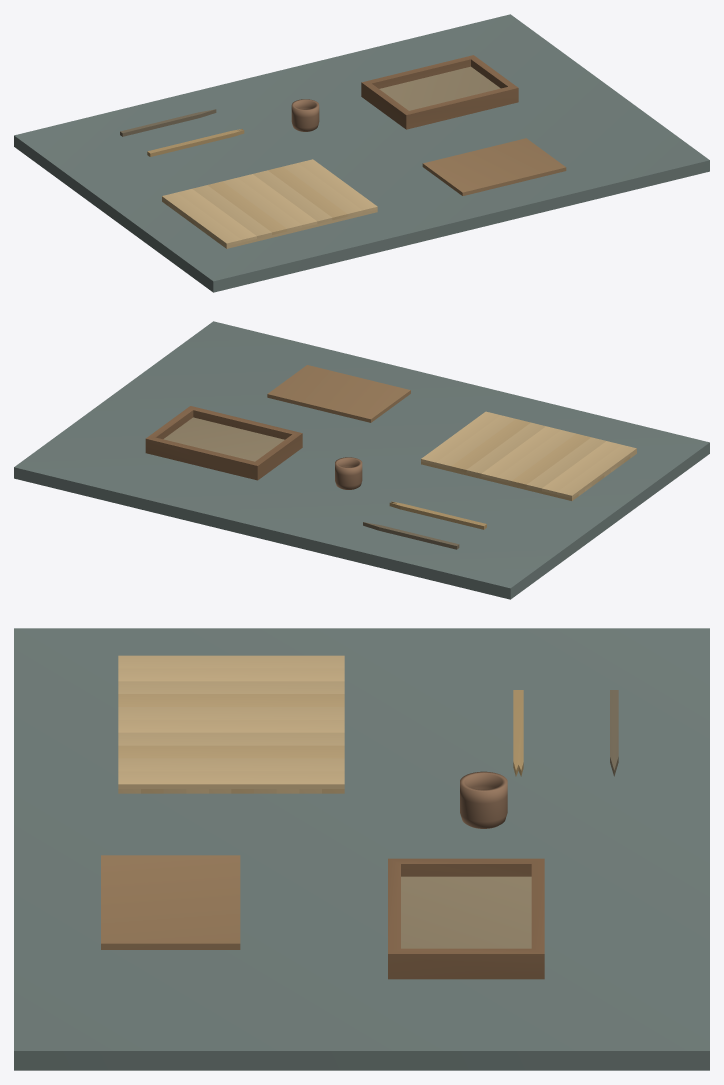
Rendered from letters-materials.glb.
3 views of the same model, one above another, from view 1: azimuth 30°, elevation 25°; view 2: azimuth 150°, elevation 25°; view 3: azimuth 270°, elevation 25° (orthographic). The views are drawn at different scales.
Visible parts, largest first — view 1: letters-materials-letters-modern-neutral-support, letters-materials-letters-original-plain-wax-frame, letters-materials-letters-original-plain-writing-wood, letters-materials-letters-original-blank-recessed-wax, letters-materials-letters-modern-papyrus-selected-tone-1, letters-materials-letters-modern-papyrus-selected-tone-2.003, letters-materials-letters-modern-papyrus-selected-tone-2, letters-materials-letters-modern-papyrus-selected-tone-2.002, letters-materials-letters-modern-papyrus-selected-tone-1.003, letters-materials-letters-modern-papyrus-selected-tone-0.001, letters-materials-letters-modern-papyrus-selected-tone-1.002, letters-materials-letters-modern-papyrus-selected-tone-3.002 (+6 smaller); view 2: letters-materials-letters-modern-neutral-support, letters-materials-letters-original-plain-wax-frame, letters-materials-letters-original-plain-writing-wood, letters-materials-letters-original-blank-recessed-wax, letters-materials-letters-modern-papyrus-selected-tone-1, letters-materials-letters-modern-papyrus-selected-tone-1.003, letters-materials-letters-modern-papyrus-selected-tone-0.001, letters-materials-letters-modern-papyrus-selected-tone-2.002, letters-materials-letters-modern-papyrus-selected-tone-3.002, letters-materials-letters-modern-papyrus-selected-tone-1.002, letters-materials-letters-modern-papyrus-selected-tone-2.003, letters-materials-letters-modern-papyrus-selected-tone-3 (+6 smaller); view 3: letters-materials-letters-modern-neutral-support, letters-materials-letters-original-plain-writing-wood, letters-materials-letters-original-plain-wax-frame, letters-materials-letters-original-blank-recessed-wax, letters-materials-letters-modern-papyrus-selected-tone-2.003, letters-materials-letters-modern-papyrus-selected-tone-1, letters-materials-letters-modern-papyrus-selected-tone-2, letters-materials-letters-modern-papyrus-selected-tone-3.002, letters-materials-letters-modern-papyrus-selected-tone-0.002, letters-materials-letters-modern-papyrus-selected-tone-1.003, letters-materials-letters-modern-papyrus-selected-tone-3, letters-materials-letters-modern-papyrus-selected-tone-0.001 (+5 smaller).
Boxes of the visible parts, x1,y1,x2,y2 form: letters-materials-letters-modern-neutral-support: (14, 14, 709, 292); letters-materials-letters-original-plain-wax-frame: (361, 55, 518, 129); letters-materials-letters-original-plain-writing-wood: (422, 138, 566, 195); letters-materials-letters-original-blank-recessed-wax: (379, 66, 500, 110); letters-materials-letters-modern-papyrus-selected-tone-1: (162, 192, 241, 245); letters-materials-letters-modern-papyrus-selected-tone-2.003: (298, 159, 377, 212); letters-materials-letters-modern-papyrus-selected-tone-2: (177, 189, 256, 242); letters-materials-letters-modern-papyrus-selected-tone-2.002: (238, 174, 317, 227); letters-materials-letters-modern-papyrus-selected-tone-1.003: (283, 163, 362, 216); letters-materials-letters-modern-papyrus-selected-tone-0.001: (207, 181, 286, 234); letters-materials-letters-modern-papyrus-selected-tone-1.002: (223, 177, 302, 231); letters-materials-letters-modern-papyrus-selected-tone-3.002: (253, 170, 332, 223); letters-materials-letters-modern-neutral-support: (14, 321, 709, 599); letters-materials-letters-original-plain-wax-frame: (145, 406, 302, 480); letters-materials-letters-original-plain-writing-wood: (267, 365, 410, 422); letters-materials-letters-original-blank-recessed-wax: (163, 417, 284, 461); letters-materials-letters-modern-papyrus-selected-tone-1: (557, 445, 636, 498); letters-materials-letters-modern-papyrus-selected-tone-1.003: (436, 415, 515, 468); letters-materials-letters-modern-papyrus-selected-tone-0.001: (511, 433, 590, 487); letters-materials-letters-modern-papyrus-selected-tone-2.002: (481, 426, 560, 479); letters-materials-letters-modern-papyrus-selected-tone-3.002: (466, 422, 545, 476); letters-materials-letters-modern-papyrus-selected-tone-1.002: (496, 430, 575, 483); letters-materials-letters-modern-papyrus-selected-tone-2.003: (421, 411, 500, 465); letters-materials-letters-modern-papyrus-selected-tone-3: (526, 437, 605, 490); letters-materials-letters-modern-neutral-support: (14, 628, 709, 1070); letters-materials-letters-original-plain-writing-wood: (101, 855, 240, 949); letters-materials-letters-original-plain-wax-frame: (388, 858, 544, 979); letters-materials-letters-original-blank-recessed-wax: (401, 876, 531, 948); letters-materials-letters-modern-papyrus-selected-tone-2.003: (118, 771, 344, 788); letters-materials-letters-modern-papyrus-selected-tone-1: (118, 655, 344, 668); letters-materials-letters-modern-papyrus-selected-tone-2: (118, 668, 344, 681); letters-materials-letters-modern-papyrus-selected-tone-3.002: (118, 732, 344, 745); letters-materials-letters-modern-papyrus-selected-tone-0.002: (118, 745, 344, 758); letters-materials-letters-modern-papyrus-selected-tone-1.003: (118, 758, 344, 771); letters-materials-letters-modern-papyrus-selected-tone-3: (118, 681, 344, 693); letters-materials-letters-modern-papyrus-selected-tone-0.001: (118, 694, 344, 706).
Size of the model in its own units: 1.15 by 0.075 by 0.8.
